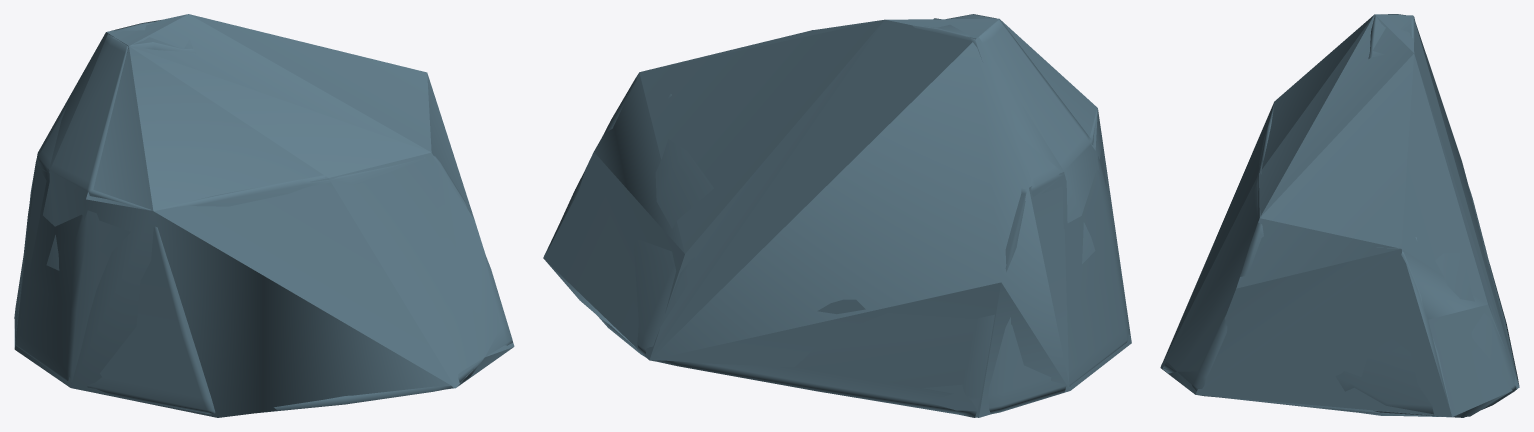
File: rocks_sharp_F.fbx
3 views of the same model, side by side, from view 1: azimuth 30°, elevation 25°; view 2: azimuth 150°, elevation 25°; view 3: azimuth 270°, elevation 25° (orthographic). The views are drawn at different scales.
Parts seen in each view (by area): view 1: c_ROCKSSHARP_F, ROCKSSHARP_F; view 2: c_ROCKSSHARP_F, ROCKSSHARP_F; view 3: c_ROCKSSHARP_F, ROCKSSHARP_F.
Part boxes in pixels (left/top/right/bottom): c_ROCKSSHARP_F: left=14, top=14, right=514, bottom=417; ROCKSSHARP_F: left=14, top=20, right=512, bottom=414; c_ROCKSSHARP_F: left=543, top=18, right=1131, bottom=417; ROCKSSHARP_F: left=544, top=14, right=1130, bottom=417; c_ROCKSSHARP_F: left=1160, top=14, right=1519, bottom=417; ROCKSSHARP_F: left=1161, top=14, right=1519, bottom=417.
Size of the model in its own units: 100 by 65.6 by 76.8.
